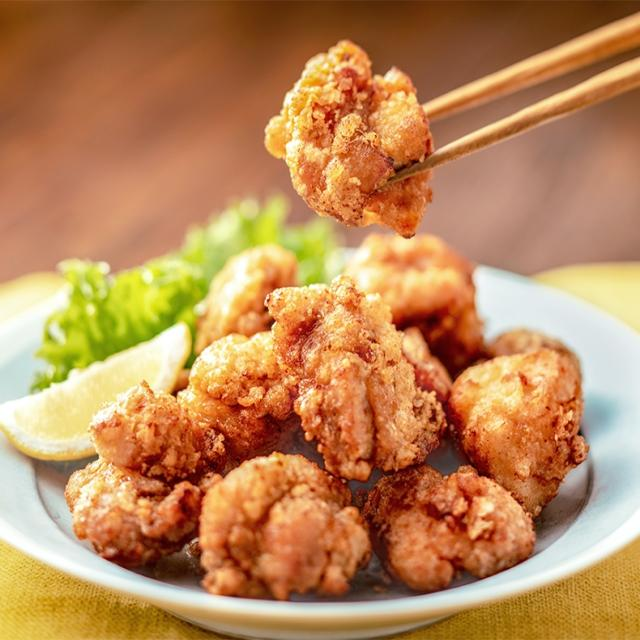Frango: (63, 36, 592, 600)
